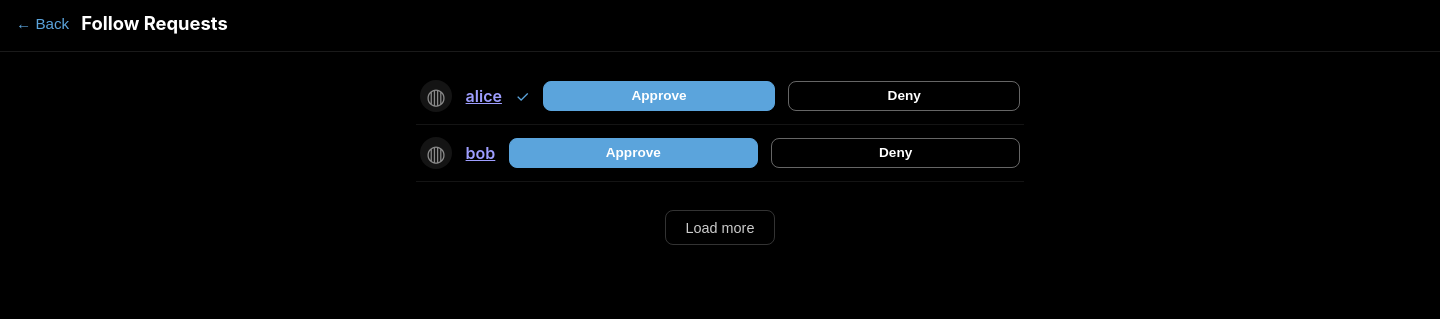
Test case: load more fetches the next page and skips rows already shown
The image size is (1440, 319).
Expected: the link "alice" is shown, [466,84,502,108]
What coordinates should you click on to do the following:
click the button "Load more"
I would click on:
 (720, 228)
Its box is [665,210,775,245].
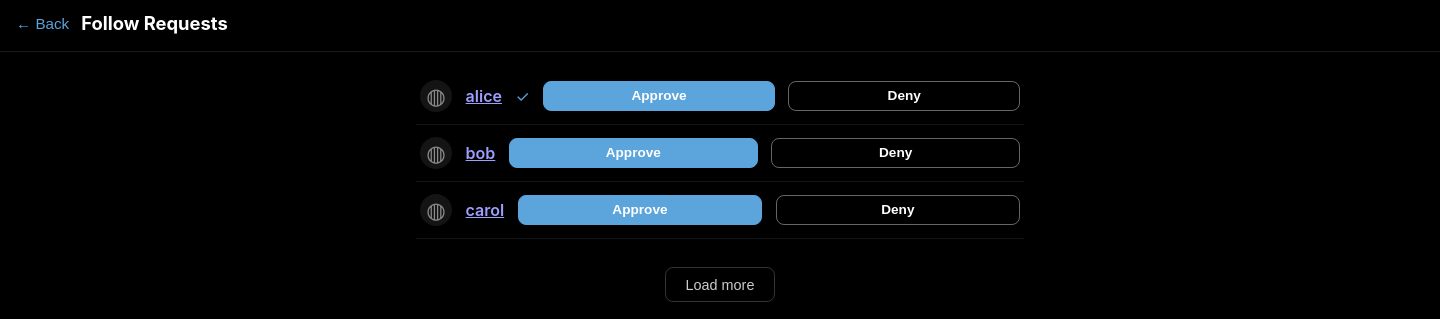
Expected: the link "carol" is shown, [466,198,504,222]
Expected: the number of links "bob" is 1, [466,141,495,165]
What coordinates should you click on to do the following:
click the button "Load more"
I would click on:
 (720, 285)
Its box is [665,267,775,302].
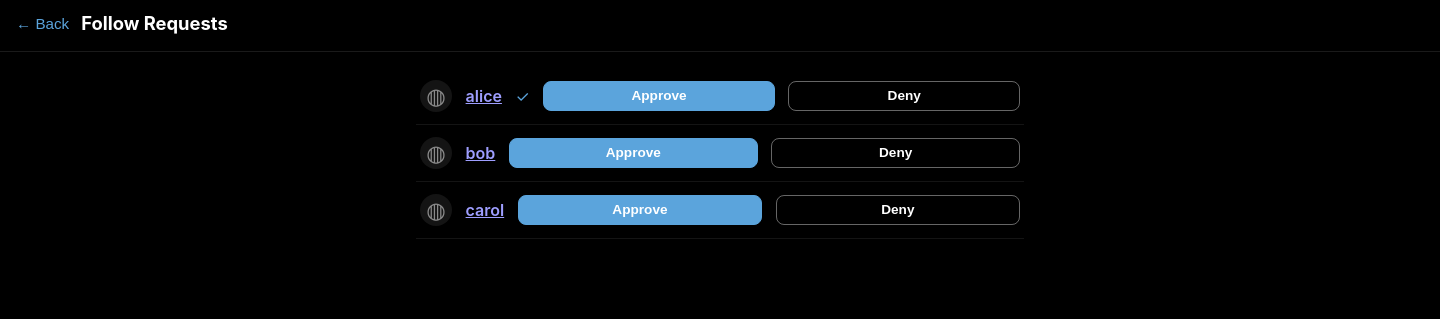
Expected: the button "Load more" is gone
